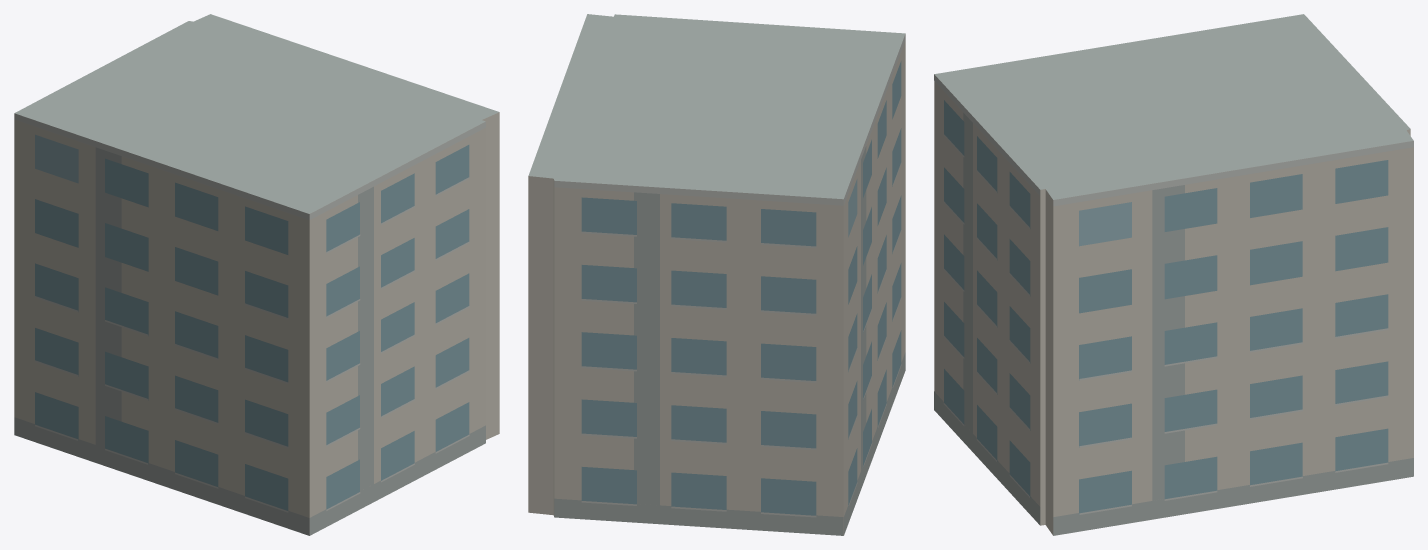
The model's file is survey-upis-32835334.glb.
3 views of the same model, side by side, from view 1: azimuth 30°, elevation 25°; view 2: azimuth 150°, elevation 25°; view 3: azimuth 270°, elevation 25° (orthographic). The views are drawn at different scales.
Visible parts, largest first — view 1: survey-upis-32835334.tmp; view 2: survey-upis-32835334.tmp; view 3: survey-upis-32835334.tmp.
Boxes of the visible parts, x1,y1,x2,y2 form: survey-upis-32835334.tmp: [14, 14, 499, 535]; survey-upis-32835334.tmp: [528, 14, 905, 535]; survey-upis-32835334.tmp: [934, 14, 1413, 535].
Size of the model in its own units: 15.04 by 12.65 by 16.38.
